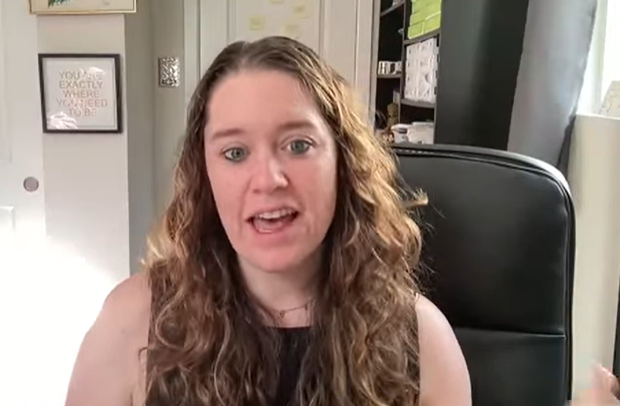person: (58, 34, 477, 405)
